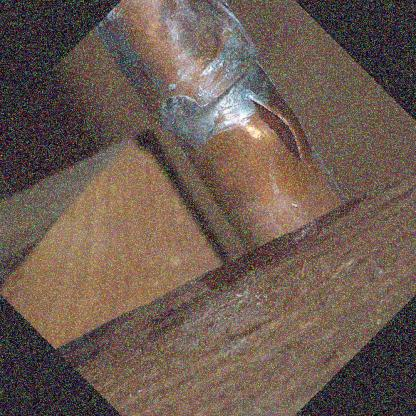burst: (240, 90, 311, 182)
